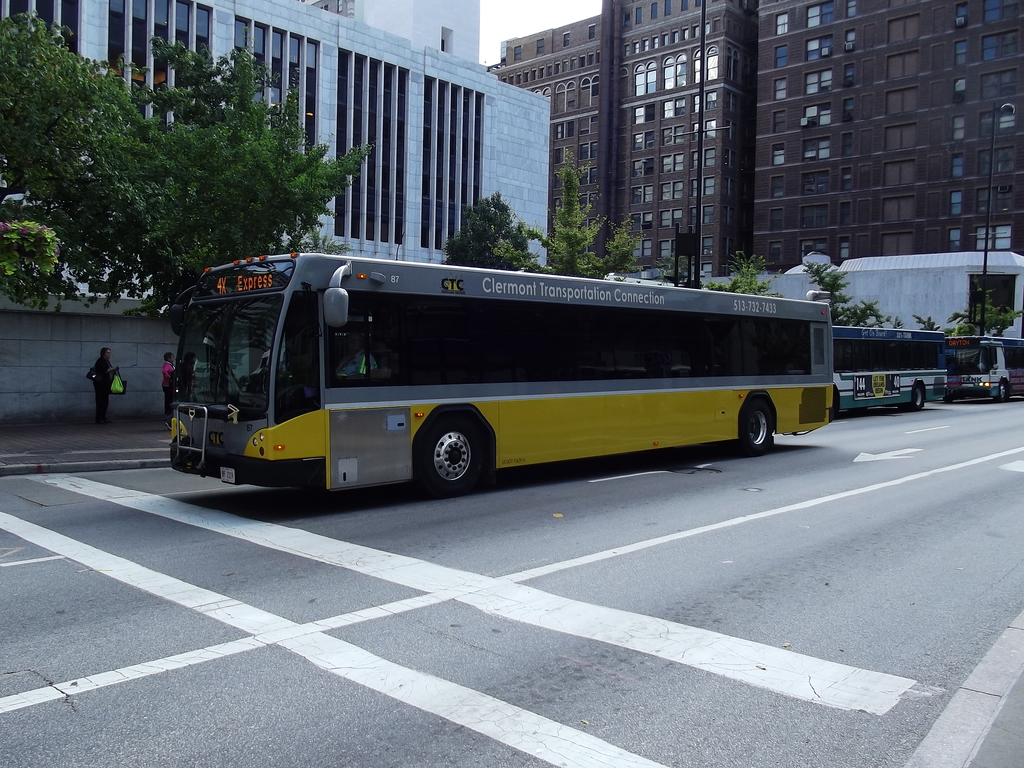Bus: (161, 254, 835, 500), (832, 328, 951, 418), (952, 337, 1023, 407)
